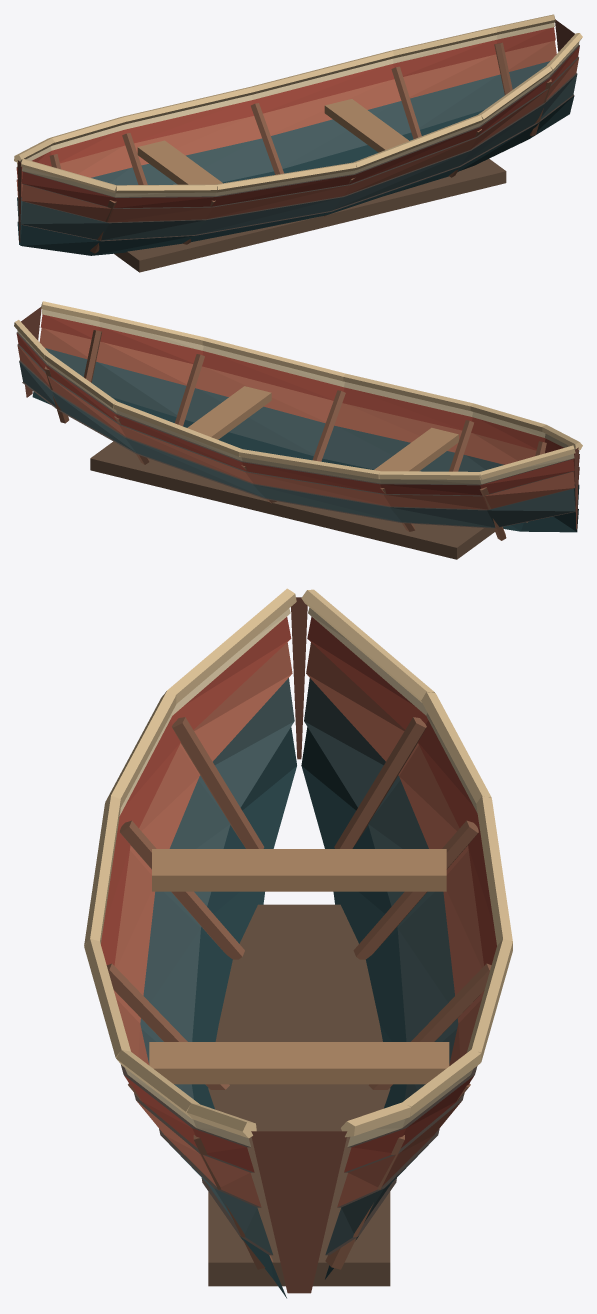
The model's file is repair_dory.glb.
The picture shows the model from 3 angles, top to bottom: view 1: azimuth 30°, elevation 25°; view 2: azimuth 150°, elevation 25°; view 3: azimuth 270°, elevation 25°; orthographic projection. The views are drawn at different scales.
Parts seen in each view (by area): view 1: repair_dory; view 2: repair_dory; view 3: repair_dory.
Part boxes in pixels (<box>): repair_dory: <box>14,14,582,272</box>; repair_dory: <box>14,301,582,559</box>; repair_dory: <box>84,588,512,1298</box>.
Size of the model in its own units: 3.64 by 0.7907 by 1.23.
